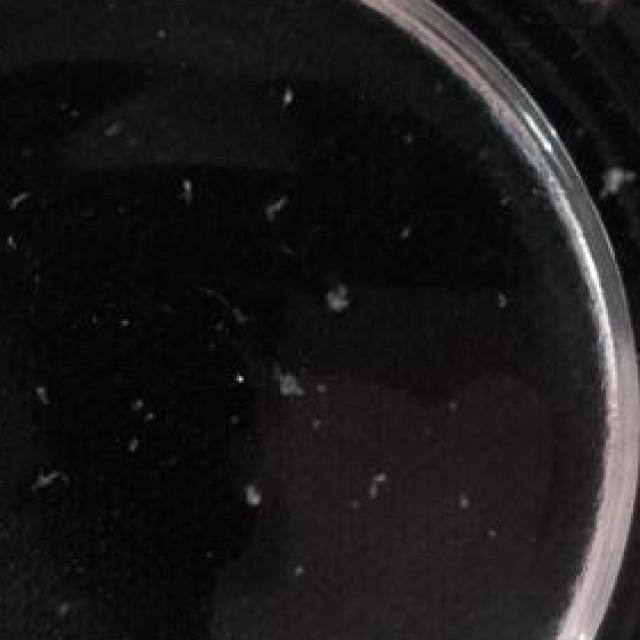Microplastic: (310, 274, 360, 318), (588, 150, 633, 195), (280, 362, 317, 406), (362, 466, 399, 502), (271, 76, 310, 110), (260, 181, 289, 219), (230, 481, 271, 506), (171, 171, 200, 193), (631, 264, 640, 305)
